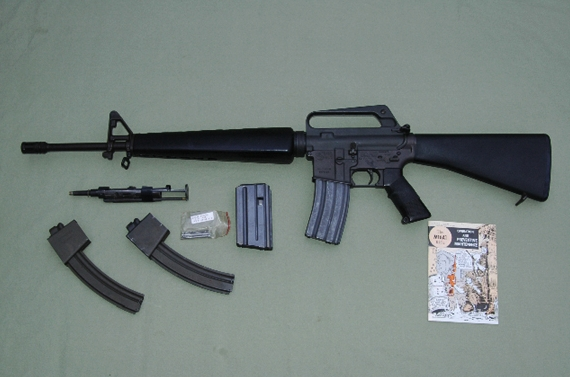rifle: (21, 107, 561, 209)
